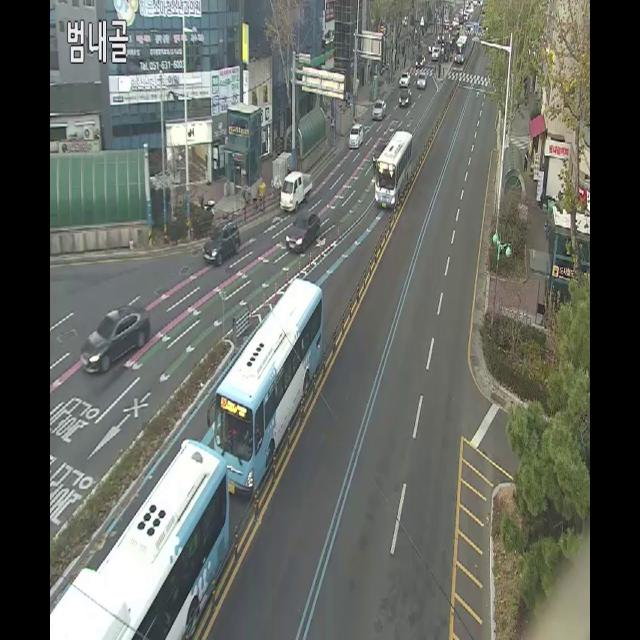car: (50, 436, 232, 640), (211, 273, 328, 498), (374, 128, 415, 212)
motorcycle: (80, 301, 152, 377), (203, 220, 241, 266), (286, 208, 323, 254), (348, 120, 365, 148), (371, 95, 386, 120), (398, 85, 413, 110)
truck: (279, 167, 314, 213)
